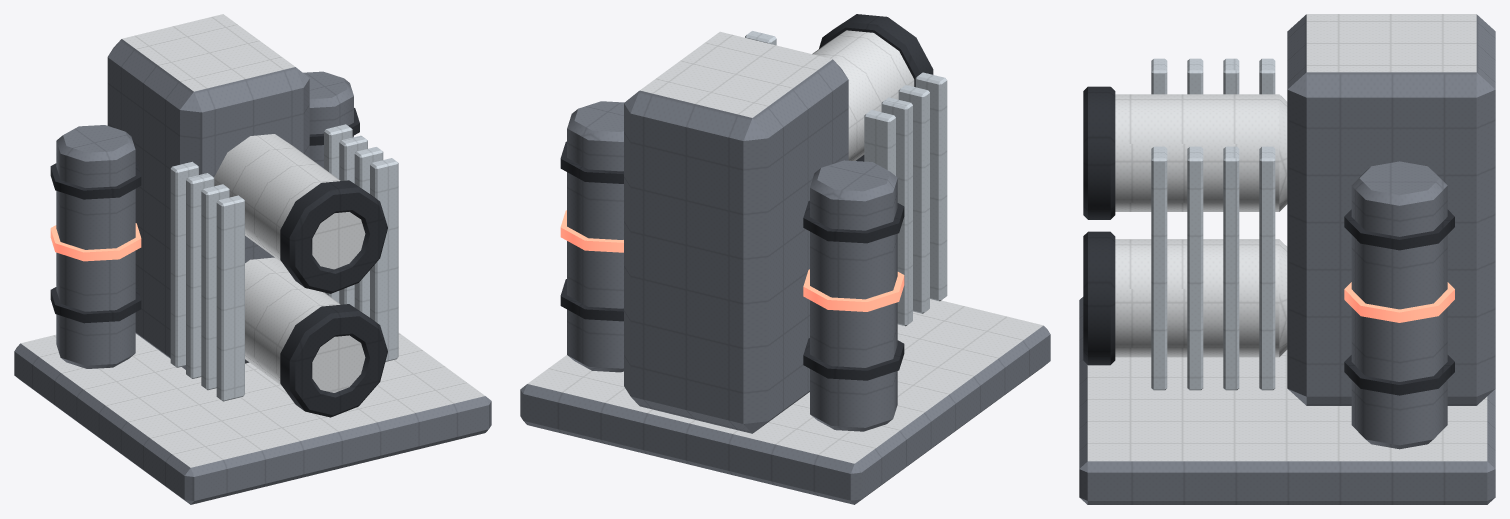
File: R4X_DoubleShotOverdrive_LOD1.glb
3 renders of one model, left to right at view 1: azimuth 30°, elevation 25°; view 2: azimuth 150°, elevation 25°; view 3: azimuth 270°, elevation 25°, orthographic. The views are drawn at different scales.
Parts seen in each view (by area): view 1: R4X_DoubleShotOverdrive_LOD1; view 2: R4X_DoubleShotOverdrive_LOD1; view 3: R4X_DoubleShotOverdrive_LOD1.
Boxes of the visible parts, <box> form: R4X_DoubleShotOverdrive_LOD1: <box>14,14,491,504</box>; R4X_DoubleShotOverdrive_LOD1: <box>520,14,1050,504</box>; R4X_DoubleShotOverdrive_LOD1: <box>1079,14,1495,504</box>.
Bounding box in the file's own units: 0.52 × 0.52 × 0.52.
5 materials, 4 textured.
